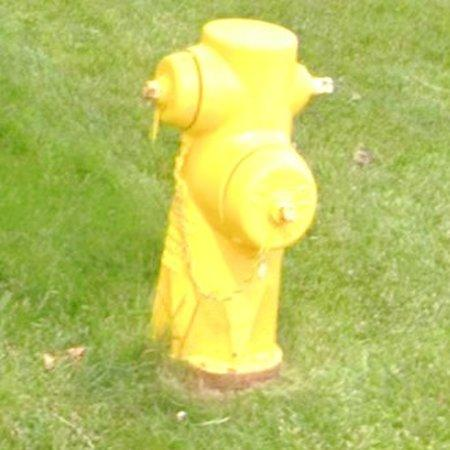a fire hydrant: (144, 18, 334, 384)
